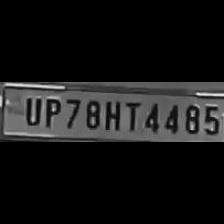4: (141, 99, 161, 134), (160, 100, 180, 134)
5: (200, 102, 220, 136)
7: (61, 96, 80, 130)
8: (82, 96, 102, 130), (181, 101, 199, 135)
H: (102, 98, 122, 132)
P: (41, 94, 61, 128)
T: (122, 97, 140, 132)
U: (20, 94, 42, 126)
